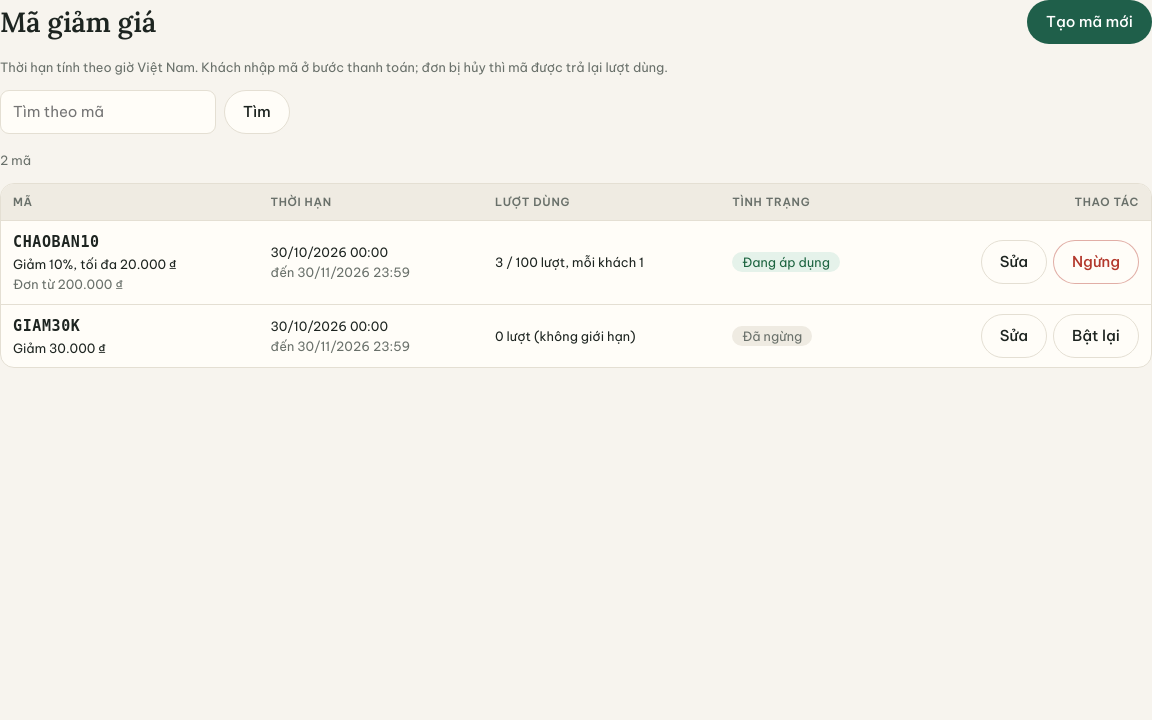
Scenario: VoucherAdminPage › lỗi validate hiện ngay dưới ô; Hủy đóng biểu mẫu
Click the button "Tạo mã mới".
click(1090, 22)  # box [1027,0,1151,44]
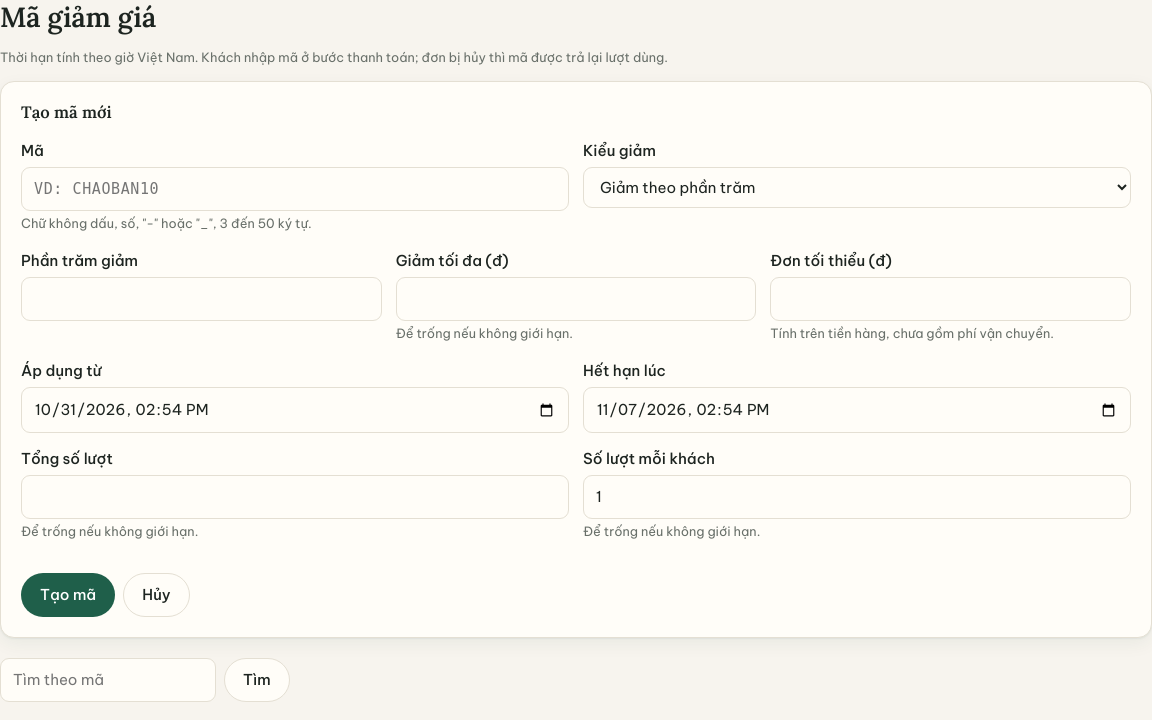
Type "ab" into the field labelled "Mã".
click(295, 189); type("ab")  # box [21,167,569,211]
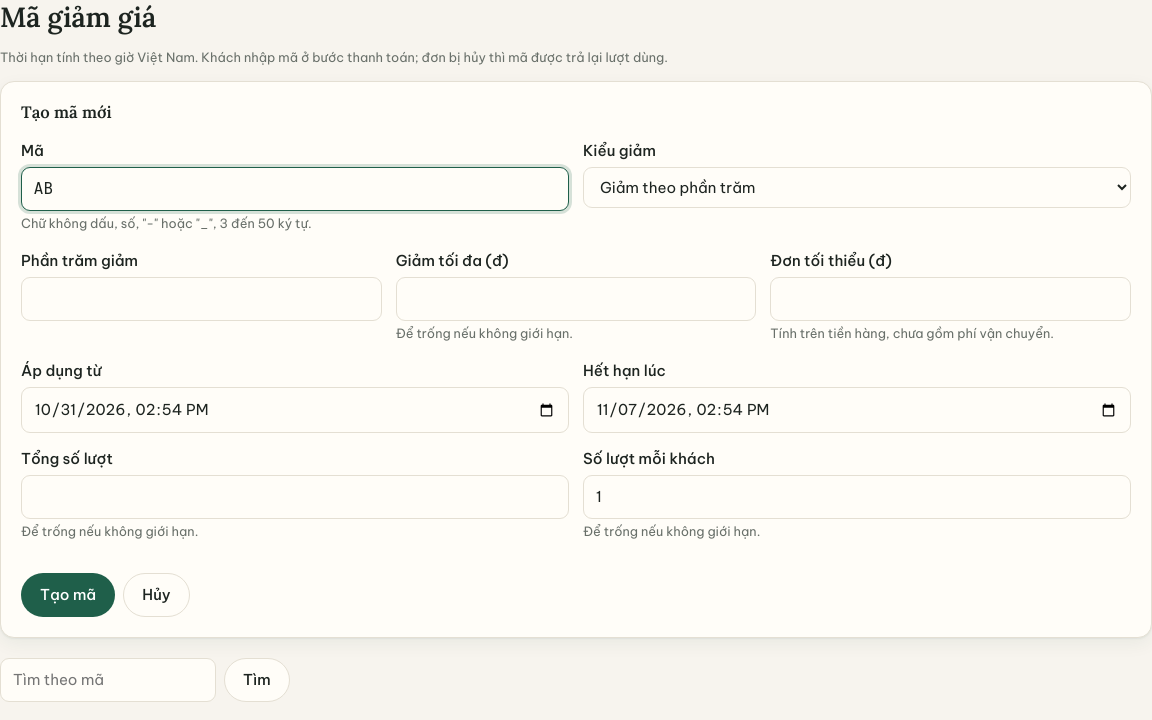
Type "10" into the number field labelled "Phần trăm giảm".
click(201, 299); type("10")  # box [21,277,382,321]
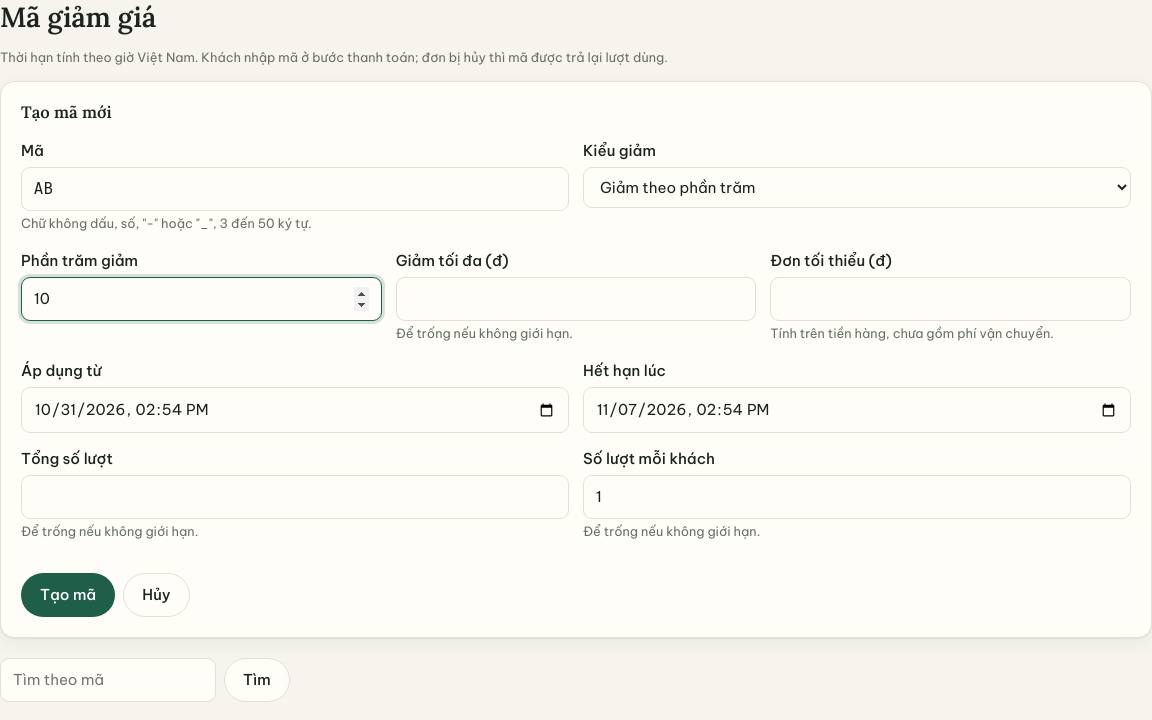
Click the button "Tạo mã".
click(68, 595)  # box [21,573,115,617]
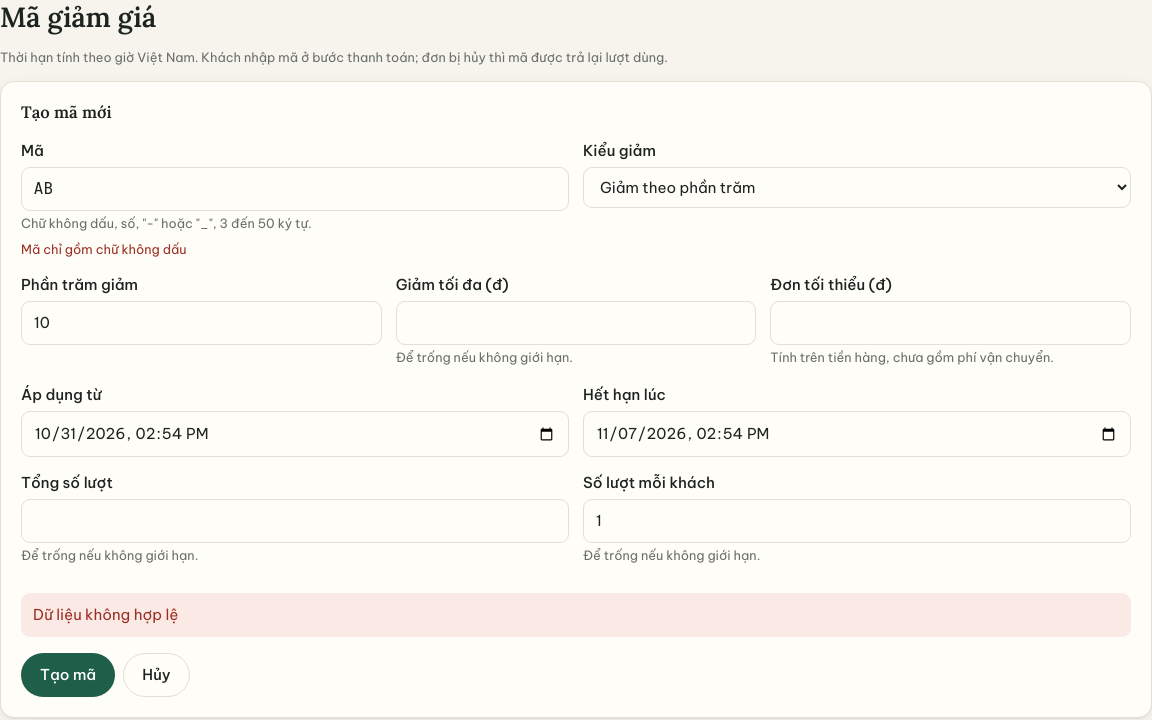
Expected: the text "Mã chỉ gồm chữ không dấu" is shown, [21,241,186,257]
Expected: the message reads "Dữ liệu không hợp lệ", [33,605,178,624]
Click the button "Hủy".
click(156, 675)  # box [123,653,190,697]
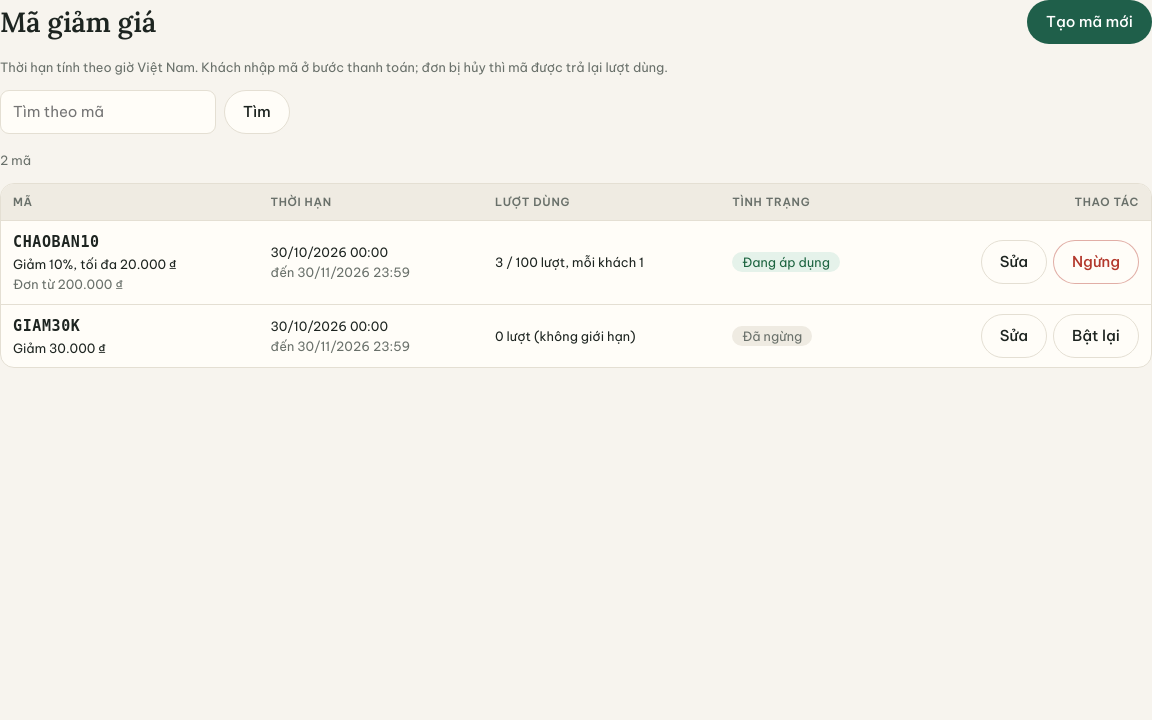
Expected: the label labelled "Kiểu giảm" is gone
